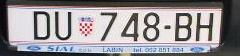-: (164, 25, 170, 29)
4: (121, 13, 138, 41)
7: (101, 12, 117, 41)
8: (144, 13, 159, 41)
B: (175, 13, 191, 41)
D: (33, 11, 50, 40)
H: (197, 12, 214, 41)
U: (55, 11, 71, 40)
